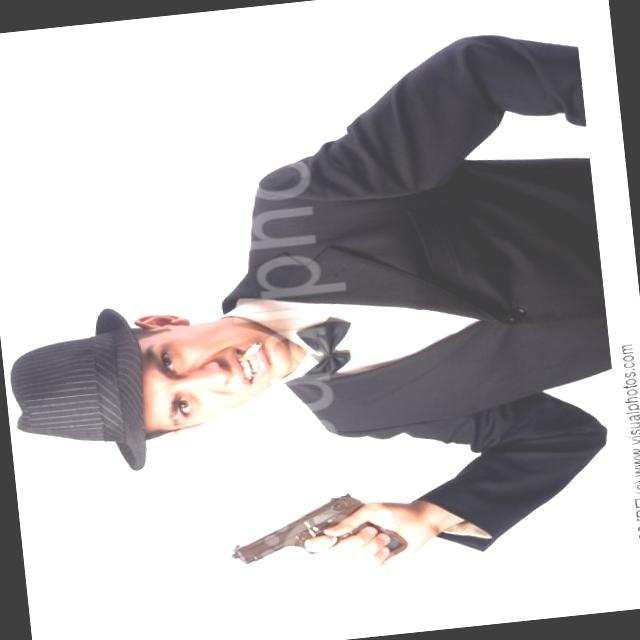handgun: (224, 485, 410, 589)
